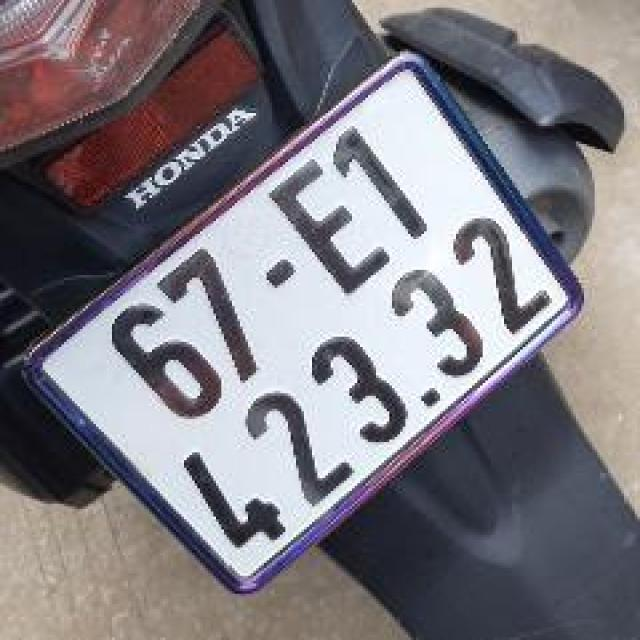1: (305, 110, 459, 261)
2: (224, 369, 375, 524), (436, 193, 567, 346)
3: (365, 244, 504, 401), (290, 313, 423, 462)
4: (163, 425, 305, 576)
6: (90, 283, 242, 439)
7: (142, 231, 289, 402)
E: (252, 149, 408, 311)
